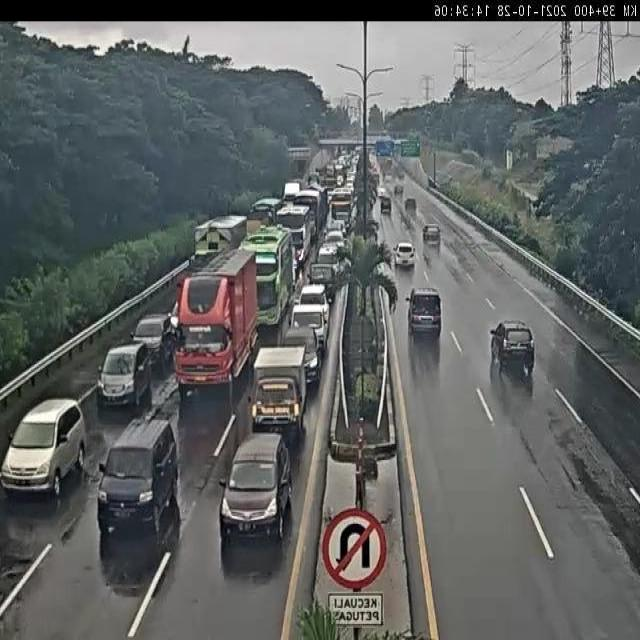Car: (0, 398, 84, 502), (219, 430, 293, 545), (96, 342, 152, 411), (490, 321, 536, 368)
Truck: (170, 248, 259, 394), (247, 347, 307, 443)
Van: (96, 418, 177, 528), (407, 288, 444, 336)
